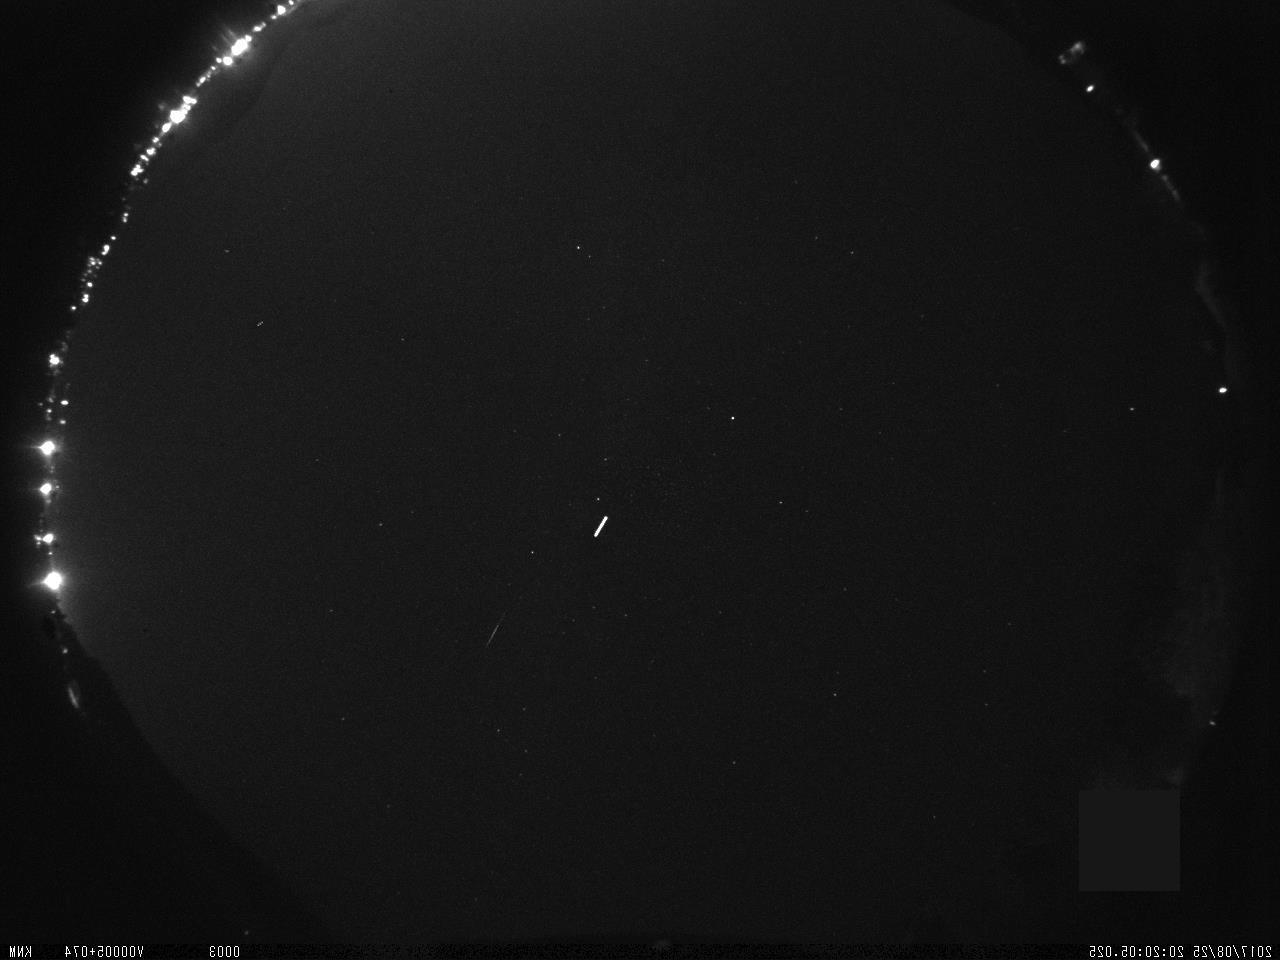meteor: (479, 597, 514, 649)
satelite: (588, 508, 614, 555)
